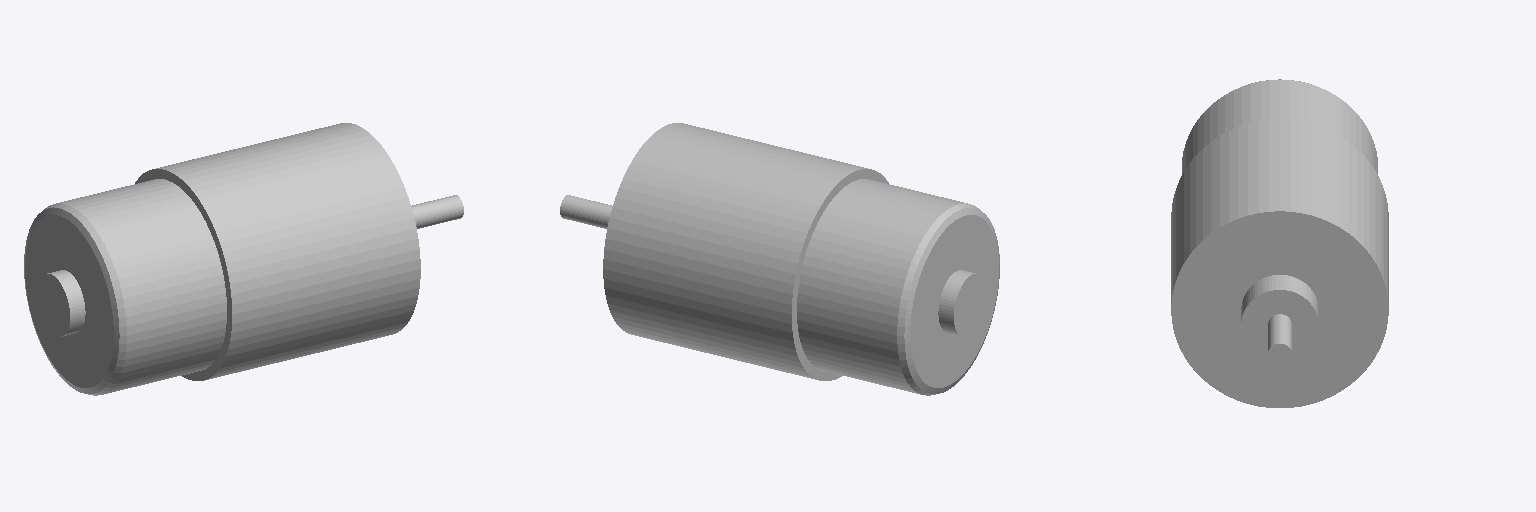
The model's file is motor.obj.
3 renders of one model, left to right at view 1: azimuth 30°, elevation 25°; view 2: azimuth 150°, elevation 25°; view 3: azimuth 270°, elevation 25°, orthographic.
Bounding box in the file's own units: 6.41 × 2.99 × 2.99.